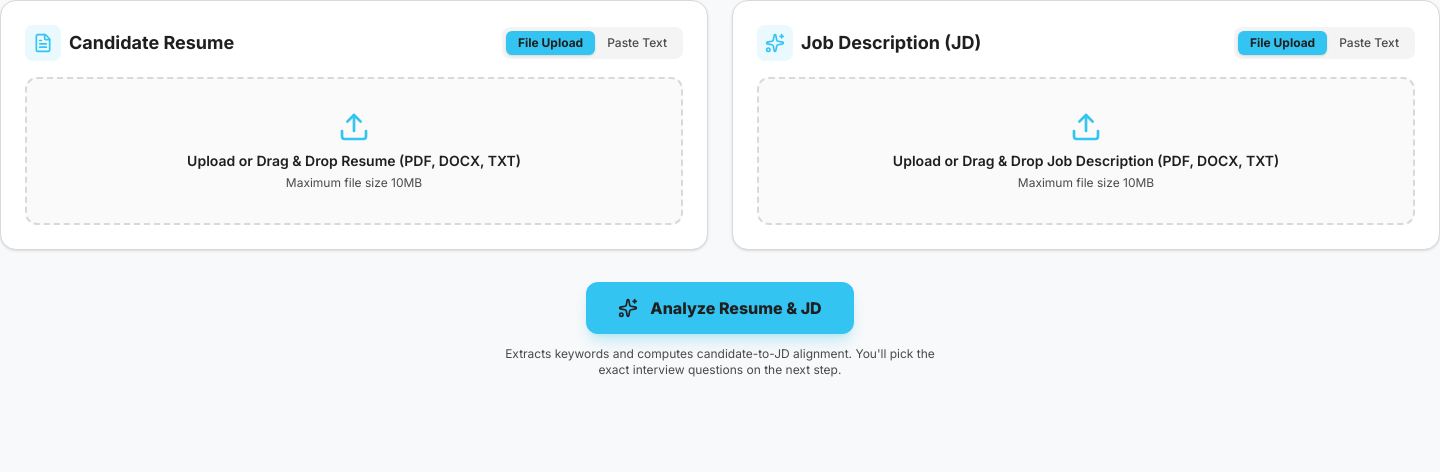
Scenario: ResumeJDUploader — extraction step, hands off to question selection › requires both resume and JD text before allowing extraction
Click the button "Analyze Resume & JD".
click(720, 308)  # box top-left (586, 282), bottom-right (854, 334)
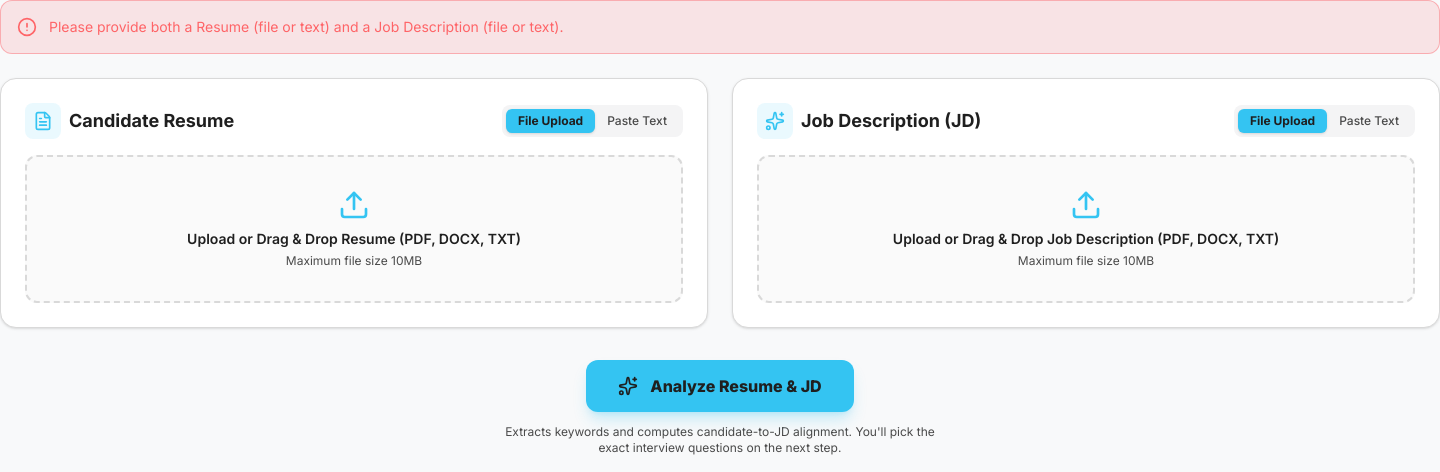
Expected: the text "Please provide both a Resume (file or text) and a Job Description (file or text)." is shown, top-left (49, 18), bottom-right (564, 35)
